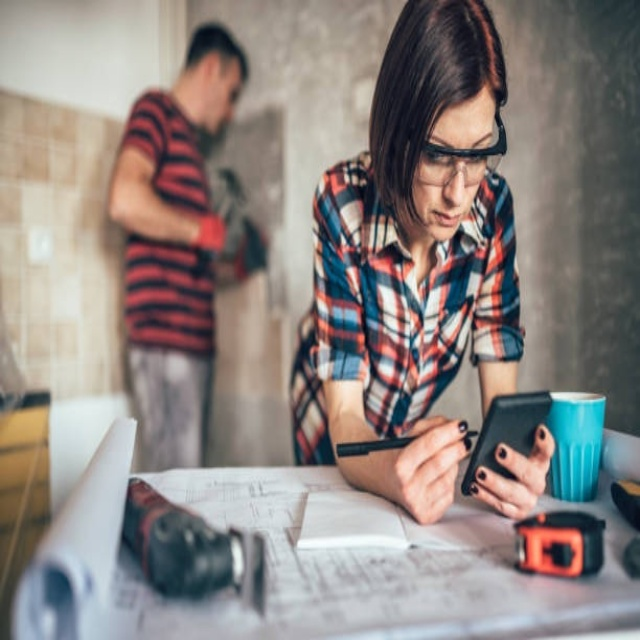Gafas: (419, 112, 506, 185)
Sin_guantes: (389, 416, 475, 526), (471, 421, 556, 521)
Sin_mascara: (422, 201, 475, 234)
